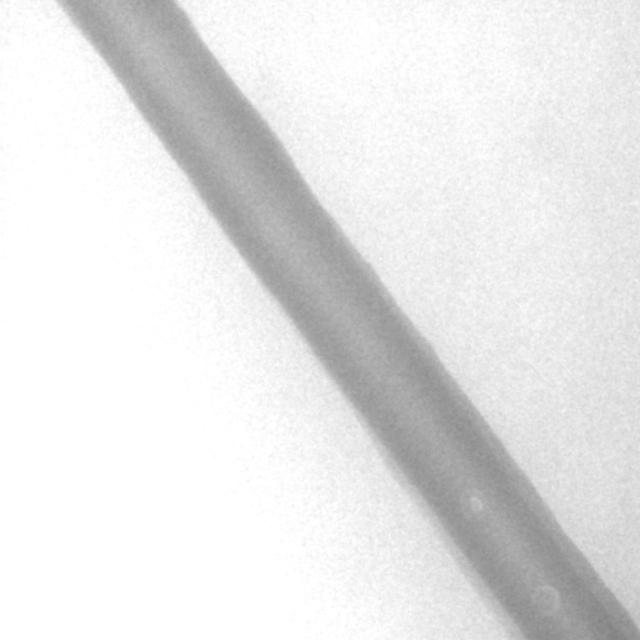air-hole: (469, 497, 484, 511)
